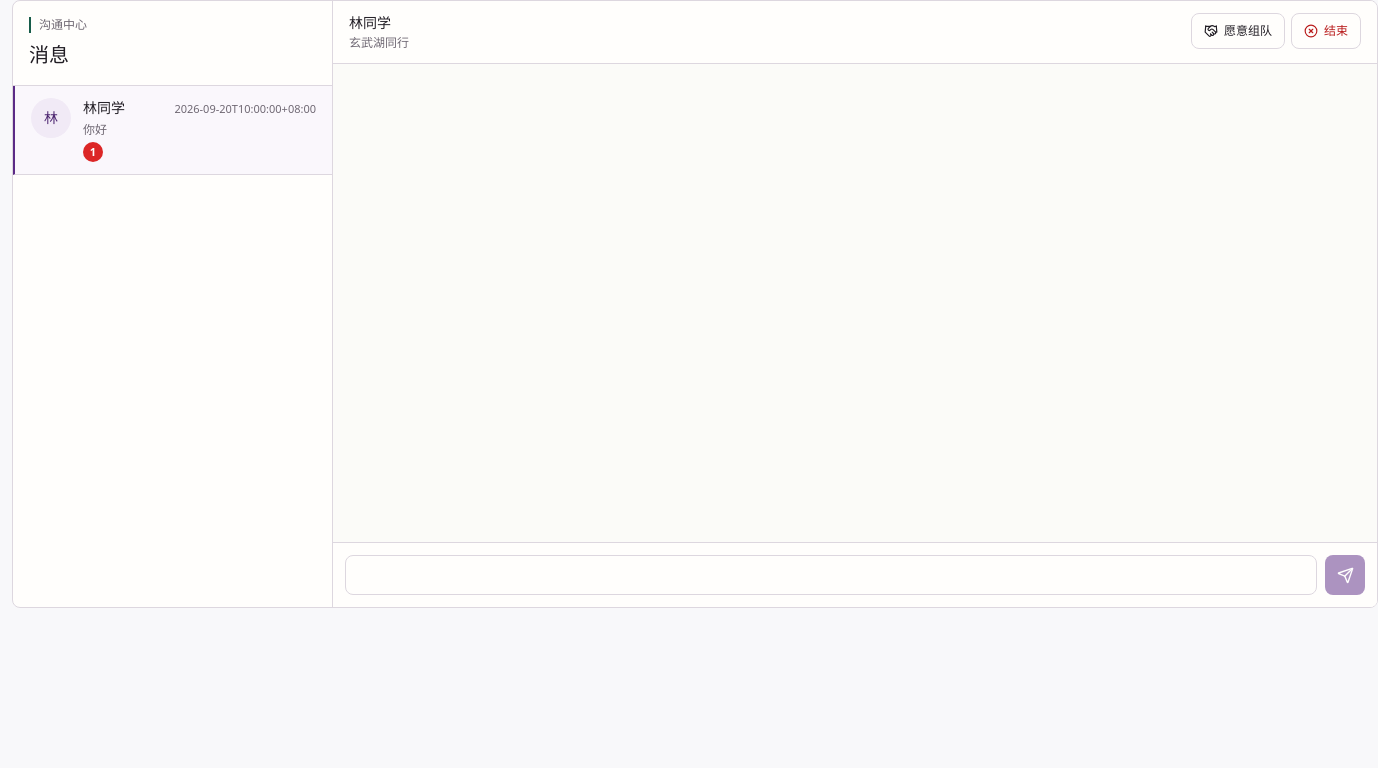
Test: Messages › keeps chat available after only the current user confirms
This screenshot has width=1378, height=768.
Click the button "愿意组队".
click(1238, 31)  # box [1191,13,1285,49]
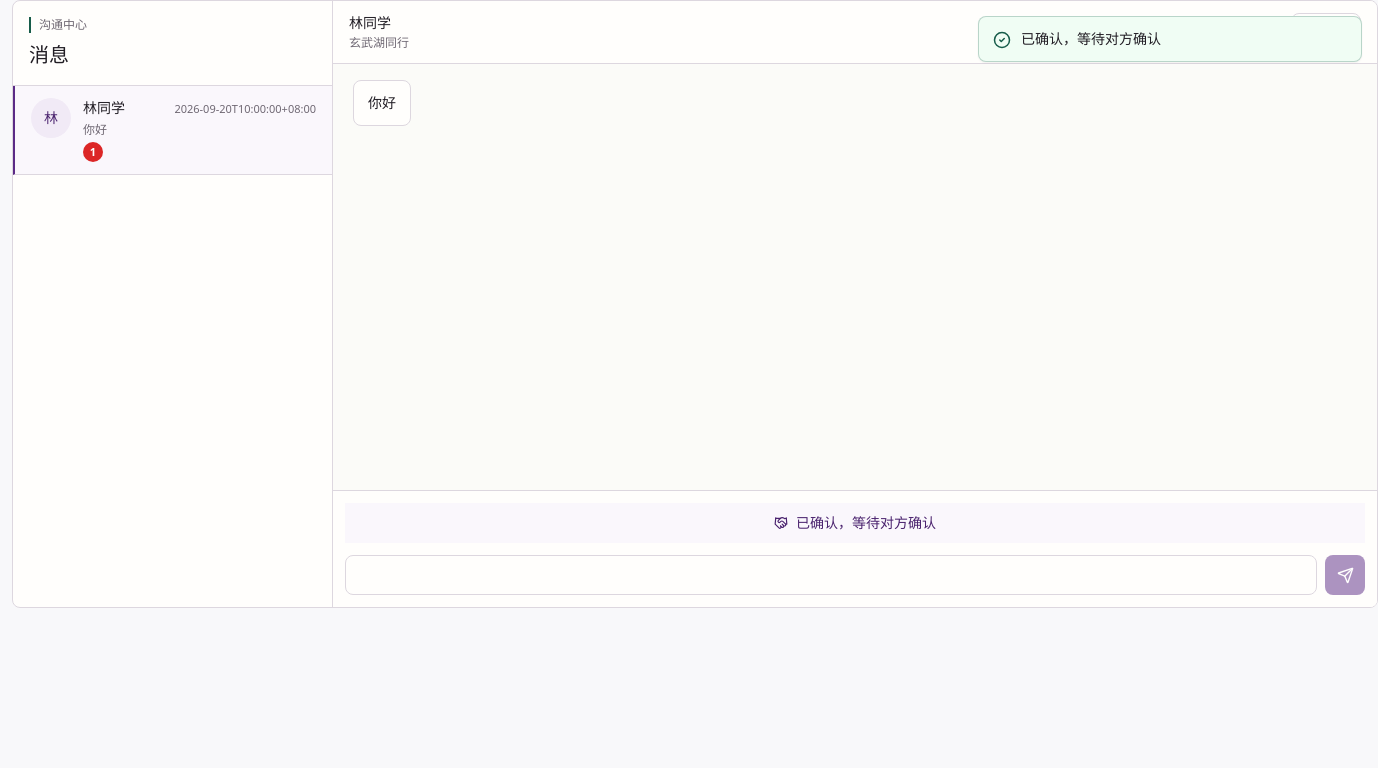
Expected: the field named "输入消息" is shown, [345,555,1317,595]
Expected: the 2nd text "已确认，等待对方确认" is shown, [345,503,1365,543]
Expected: the button "愿意组队" is gone
